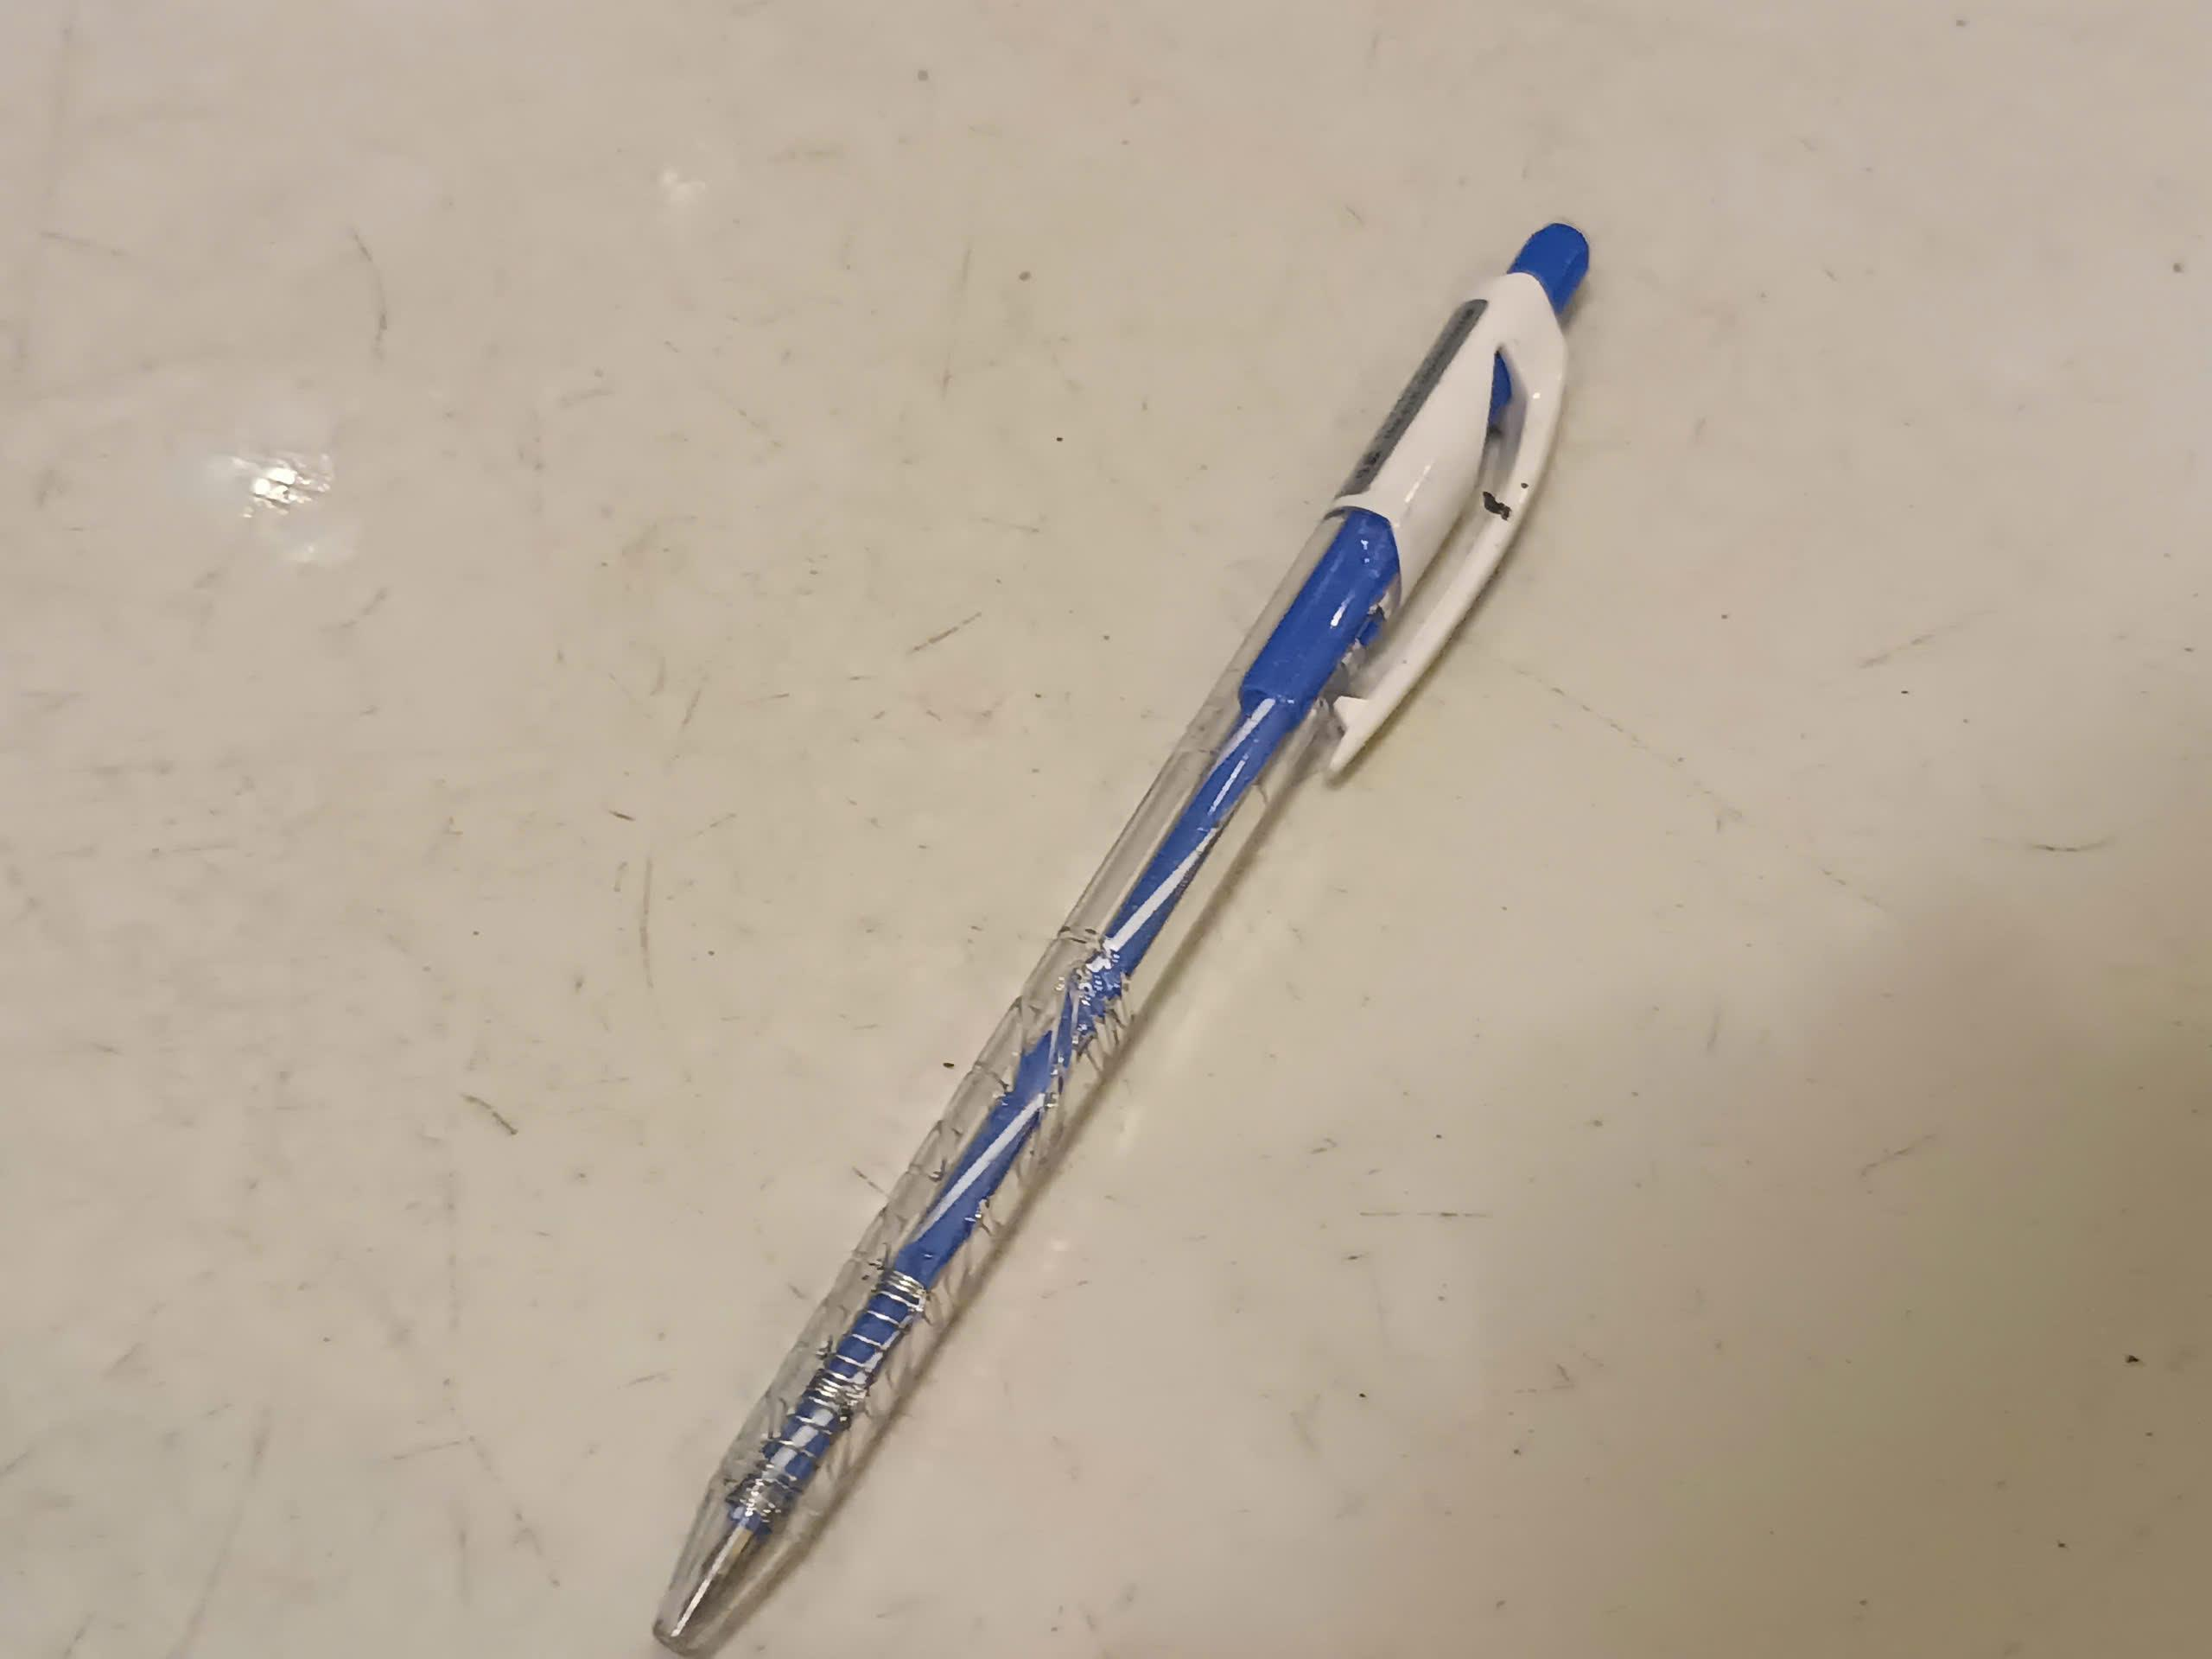Con lai: (651, 216, 1590, 1652)
